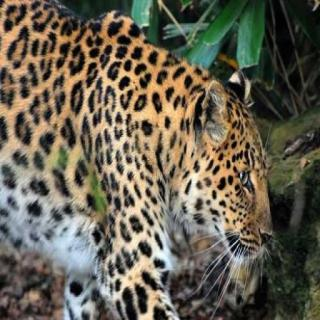Leopard: (0, 11, 293, 312)
